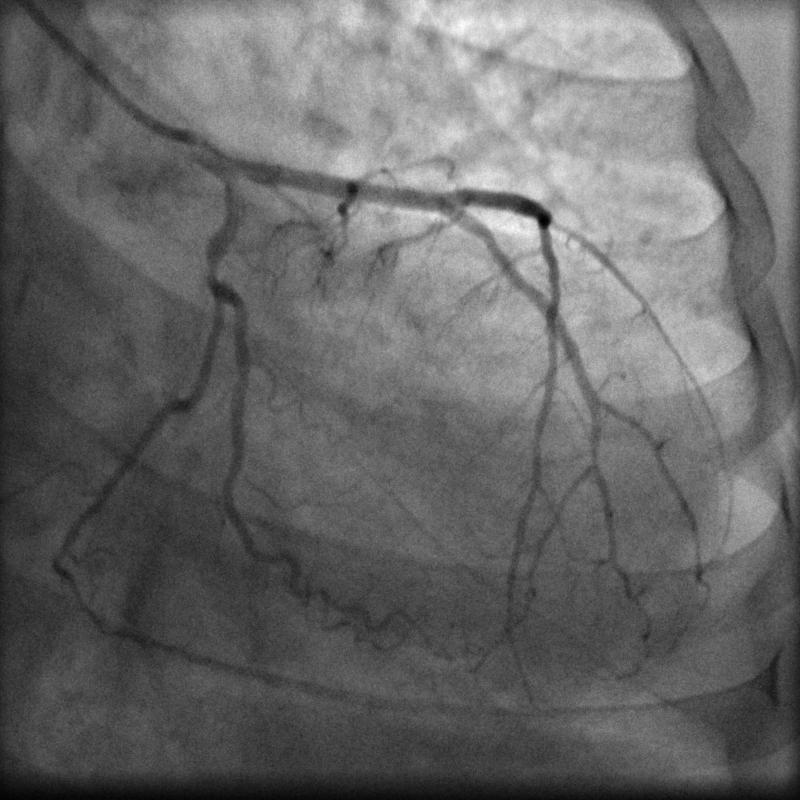Stenosis: (197, 239, 233, 293)
